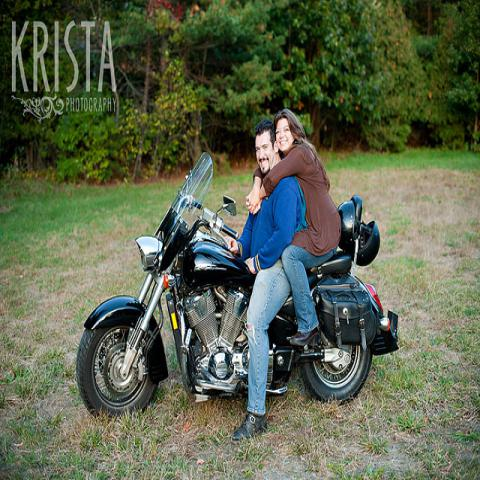motorcycle: (79, 154, 398, 416)
